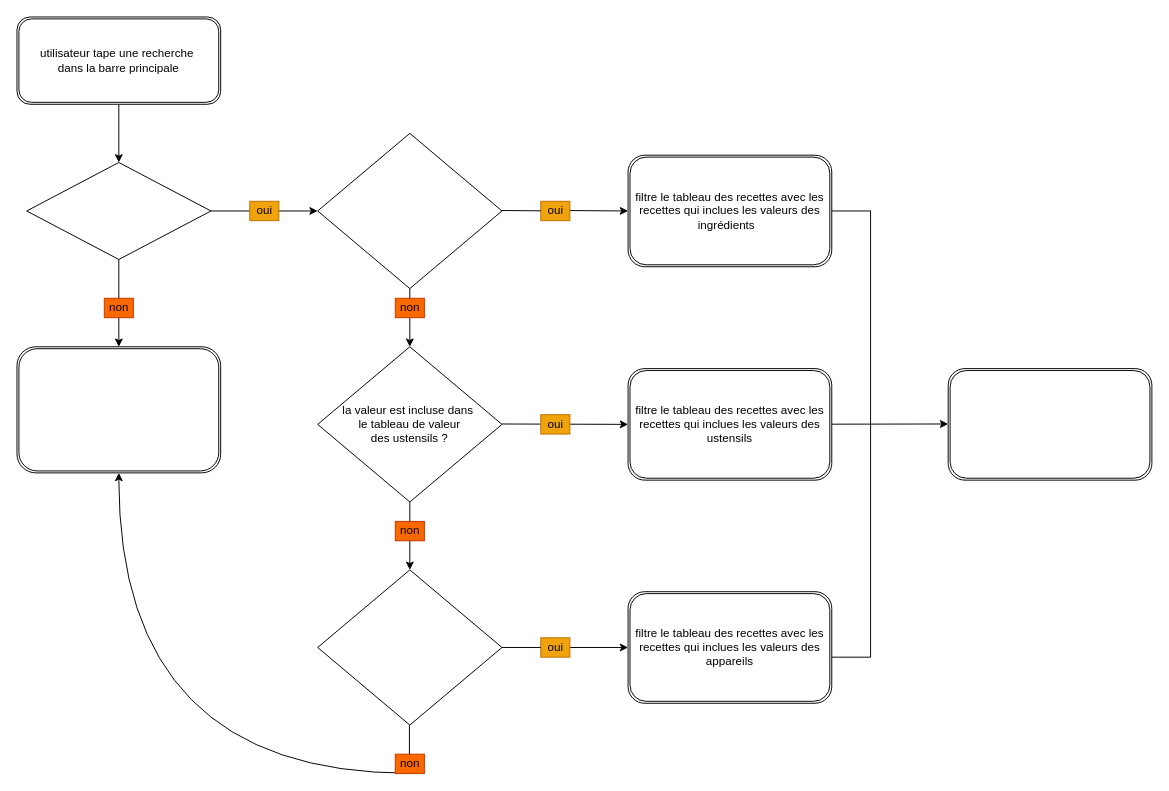
The diagram is 1169 pixels wide and 791 high, and some of its shapes have lost their labels. Each missing label, with the centre of its shape:
"affichage des recettes du nouveau tableau des recettes" goes at point (1049, 424).
"l'utilisateur est informé qu'aucune recette ne correspond à sa recherche" goes at point (118, 409).
"la valeur correspond à une valeur existante" goes at point (118, 210).
"la valeur est incluse dans le tableau de valeur des appareils ?" goes at point (409, 647).
"la valeur est incluse dans le tableau de valeur des ingredients ?" goes at point (409, 210).
